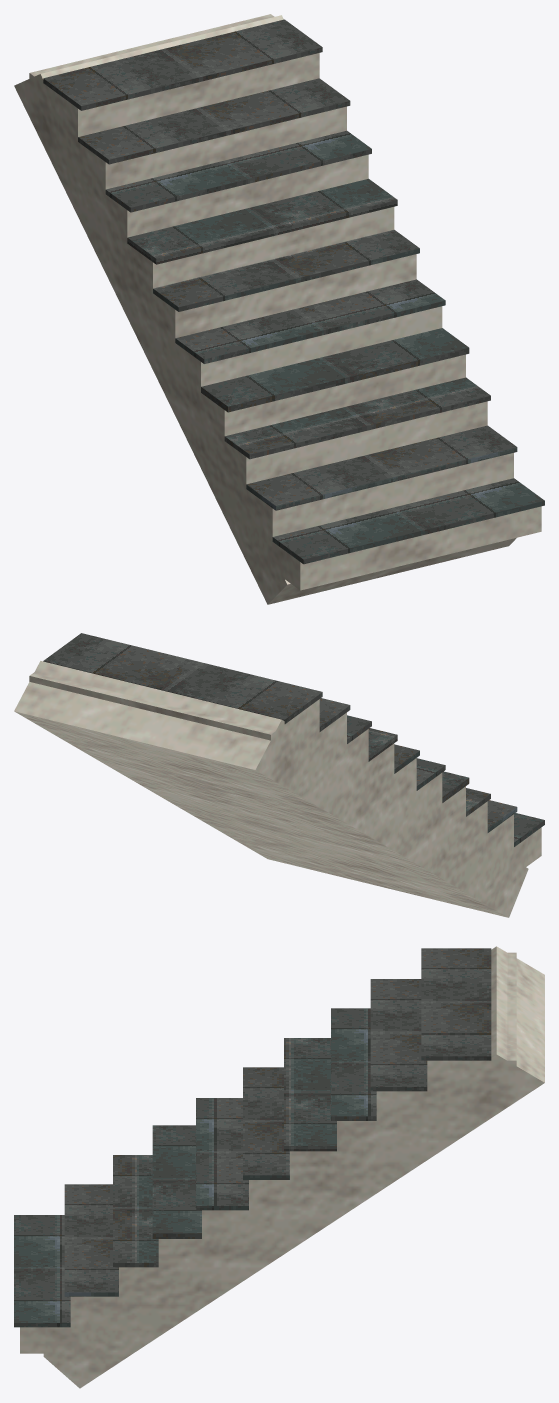
The model's file is Staris.glb.
The picture shows the model from 3 angles, top to bottom: view 1: azimuth 30°, elevation 25°; view 2: azimuth 150°, elevation 25°; view 3: azimuth 270°, elevation 25°; orthographic projection. The views are drawn at different scales.
Parts seen in each view (by area): view 1: Staris; view 2: Staris; view 3: Staris.
Part boxes in pixels (x1=…): Staris: x1=14, y1=14, x2=544, y2=604; Staris: x1=14, y1=633, x2=544, y2=917; Staris: x1=14, y1=946, x2=544, y2=1388.
Bounding box in the file's own units: 106 × 153 × 220.
2 materials, 2 textured.
